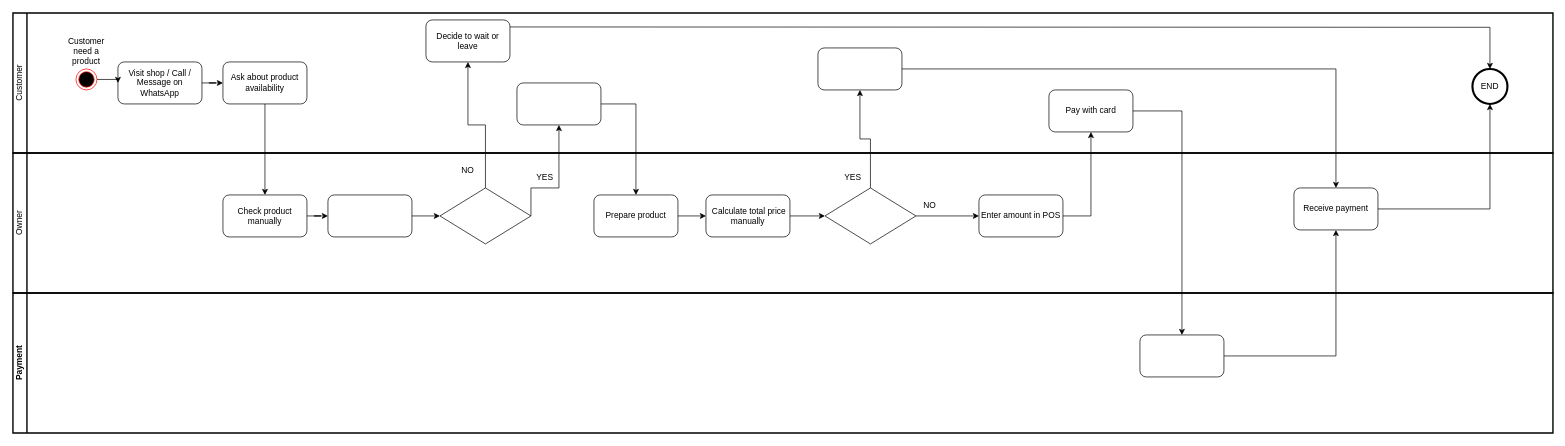
Image size: 1565x446. Some labels were removed from this diagram. Here are the shapes that lost their labels. From the top down, the centre of each, then its label:
the point at 859,68: Pay Cash
the point at 558,103: Confirm purchase
the point at 369,215: Inform customer about the product state/status
the point at 485,215: Product available?
the point at 870,215: COS?
the point at 1181,355: Process payment
